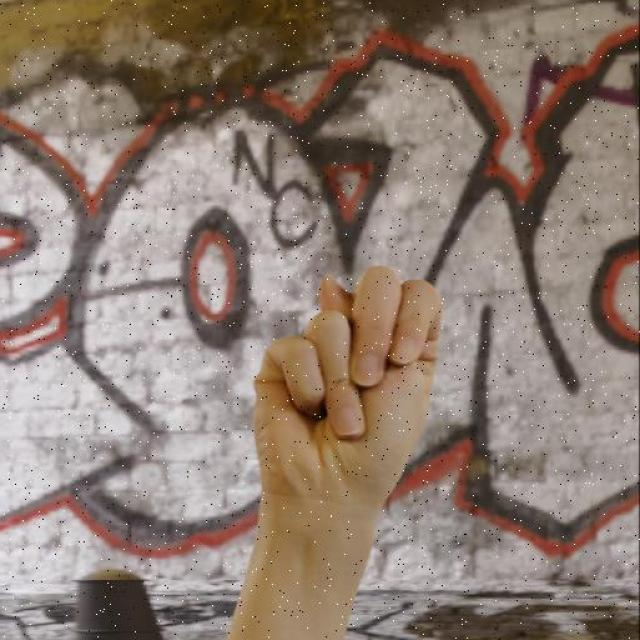N: (250, 264, 442, 510)
